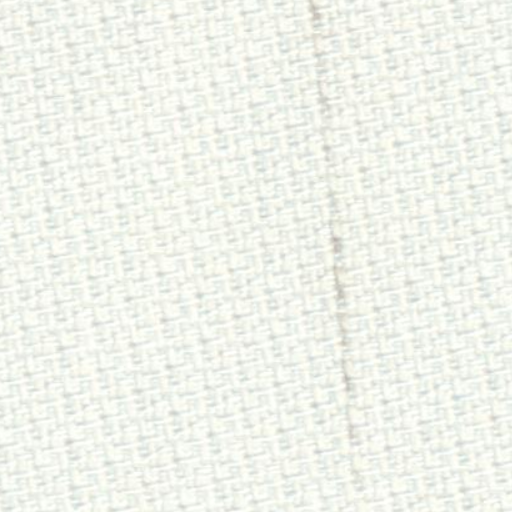WuZi: (300, 6, 376, 494)
